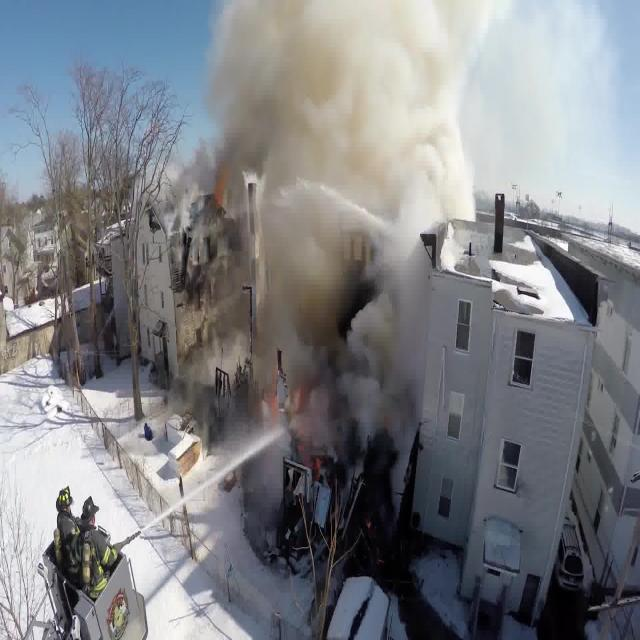Smoke: (208, 4, 478, 402)
